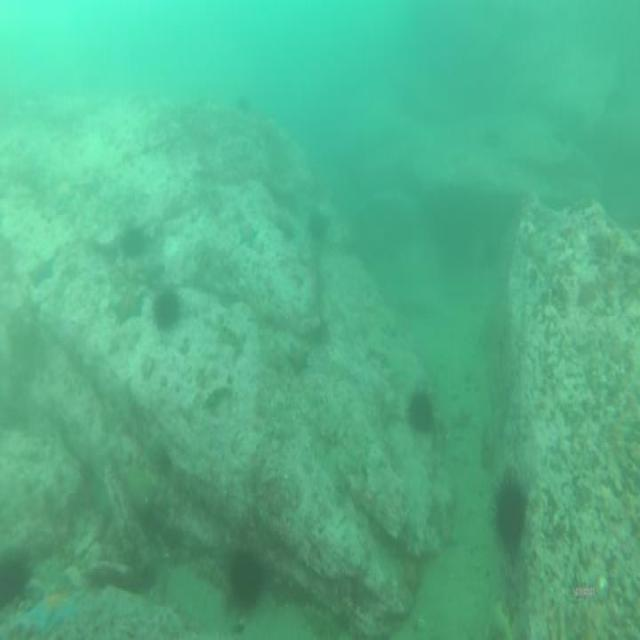echinus: (496, 481, 526, 544), (230, 553, 260, 604), (408, 392, 434, 434), (156, 296, 180, 327), (122, 226, 146, 256)
starfish: (28, 596, 80, 632), (286, 340, 311, 378), (115, 289, 142, 321), (28, 258, 52, 284)
